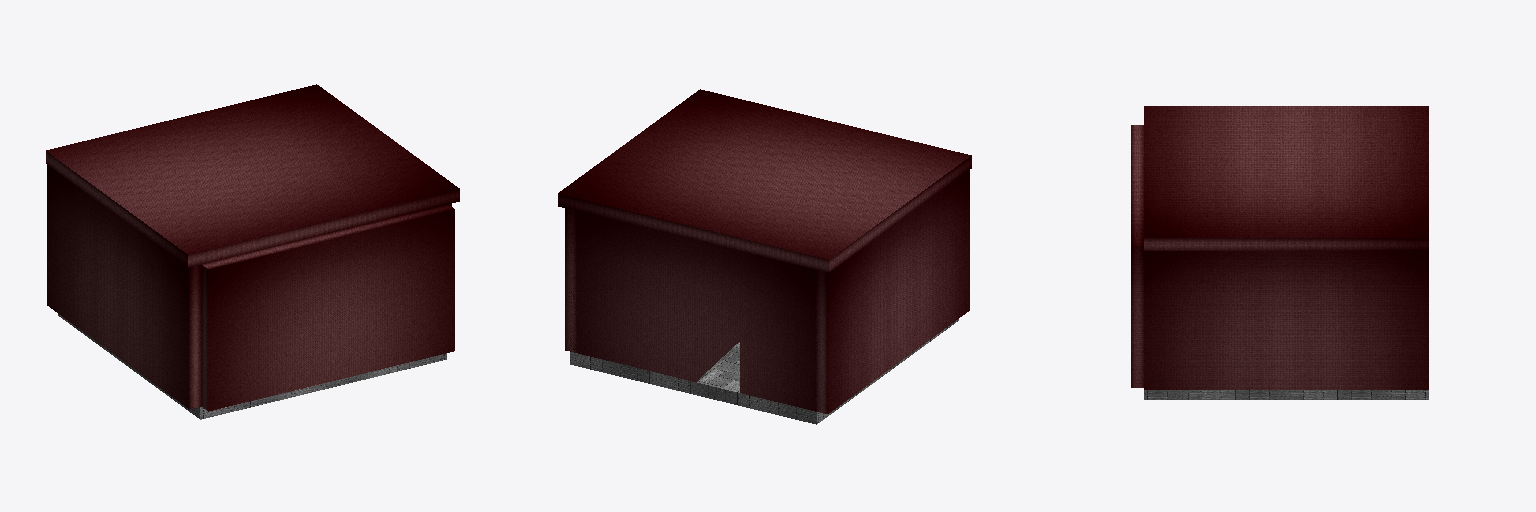
The picture shows the model from 3 angles: view 1: azimuth 30°, elevation 25°; view 2: azimuth 150°, elevation 25°; view 3: azimuth 270°, elevation 25°; orthographic projection.
Visible parts, largest first — view 1: Plafond_Cube.009, Wall2.002_Cube.003, Wall2_Cube.008, Sol_Cube.006; view 2: Plafond_Cube.009, Wall1_Cube.007, Wall2_Cube.008, Sol_Cube.006, Wall2.001_Cube.002; view 3: Plafond_Cube.009, Wall2.001_Cube.002, Wall2.002_Cube.003, Sol_Cube.006.
Part boxes in pixels (x1,y1,x2,y2): Plafond_Cube.009: (46,84,459,267); Wall2.002_Cube.003: (202,204,454,411); Wall2_Cube.008: (47,165,201,409); Sol_Cube.006: (58,314,446,419); Plafond_Cube.009: (558,89,971,272); Wall1_Cube.007: (570,211,816,411); Wall2_Cube.008: (816,170,969,413); Sol_Cube.006: (570,319,958,424); Wall2.001_Cube.002: (565,208,576,352); Plafond_Cube.009: (1144,106,1428,250); Wall2.001_Cube.002: (1144,251,1428,389); Wall2.002_Cube.003: (1131,125,1143,387); Sol_Cube.006: (1144,390,1428,399).
Bounding box in the file's own units: 44 × 26 × 41.9.
6 materials, 5 textured.